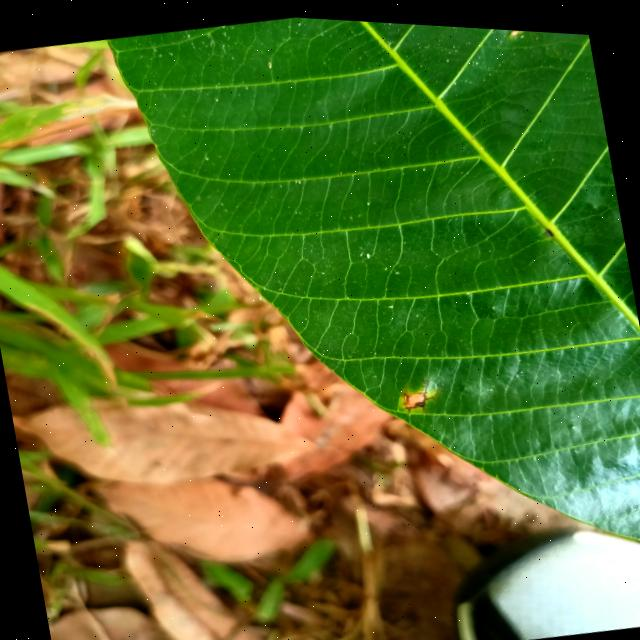Corynespora: (411, 369, 441, 409)
Leaf-Blight: (404, 385, 424, 403)
